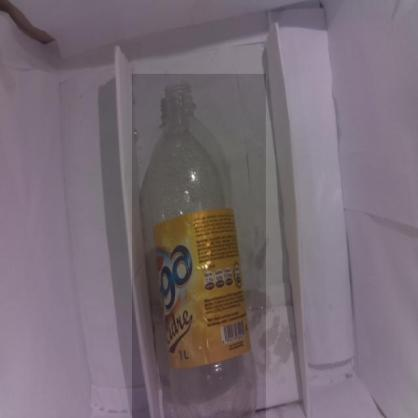bottle: (132, 74, 266, 418)
label: (145, 219, 253, 360)
